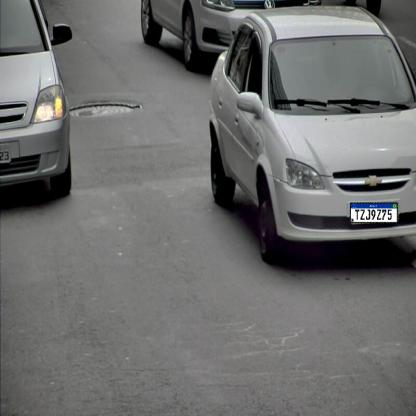PlacaM: (350, 202, 398, 223)
